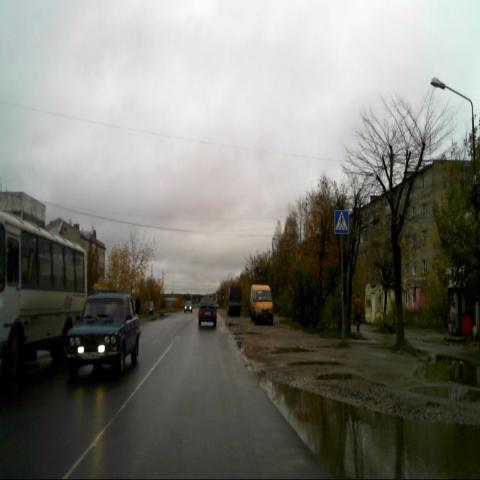5_19_1: (334, 210, 348, 234)
